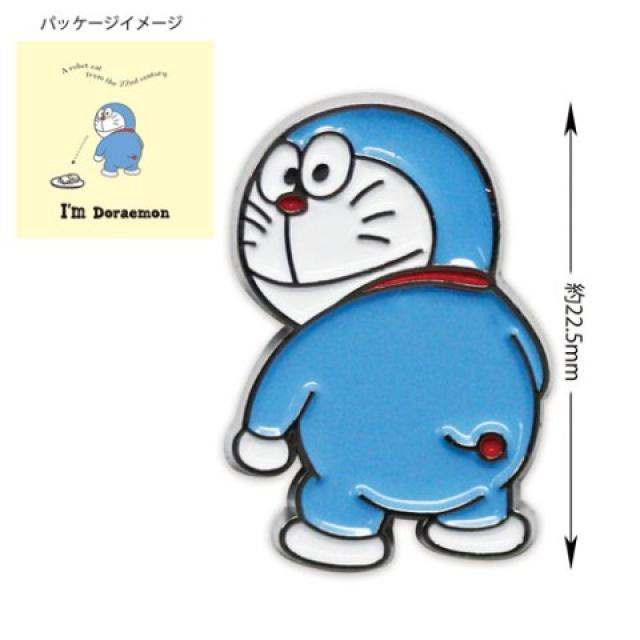doraemon: (207, 81, 540, 382)
